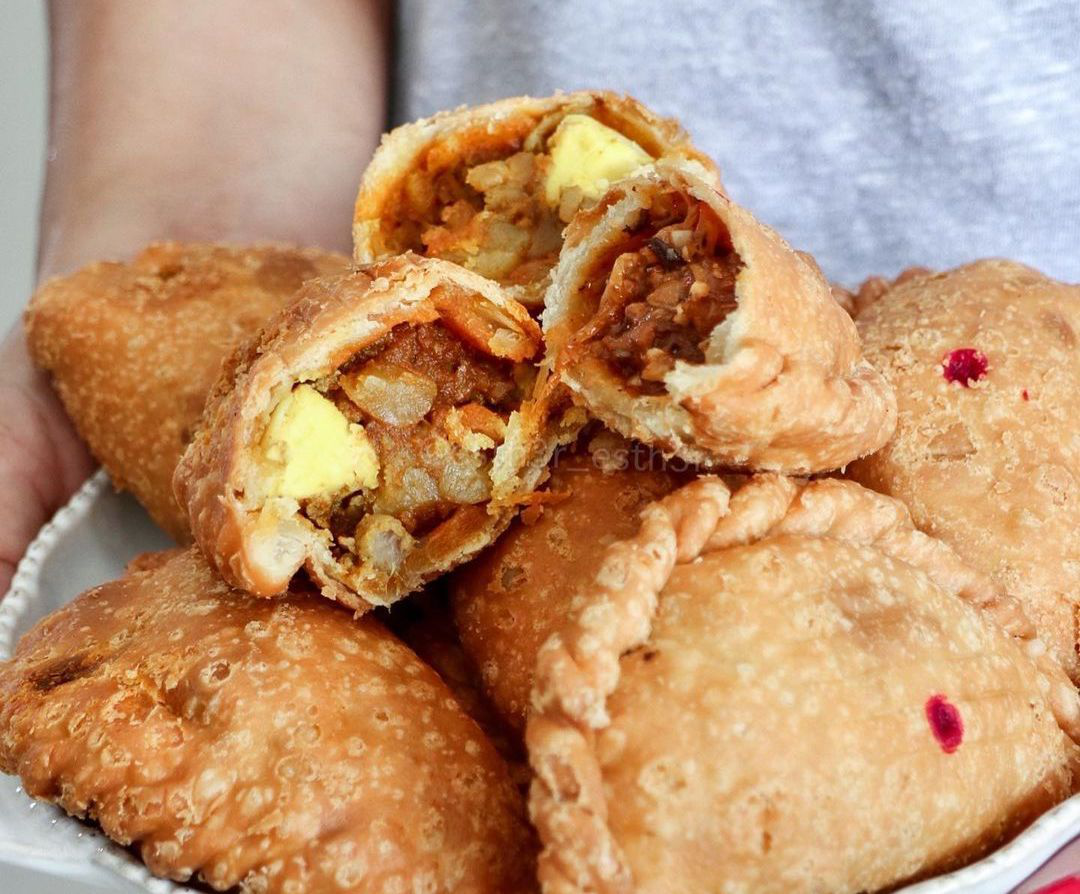Curry Puff: (124, 195, 933, 588), (507, 504, 1079, 873), (2, 529, 495, 880)
